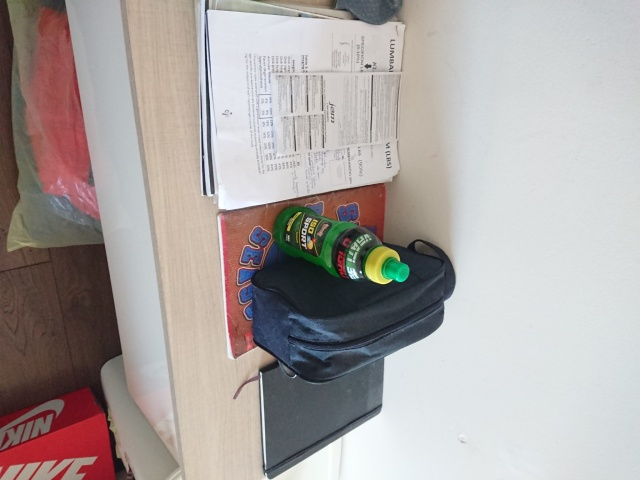Vindi Iso Sport Lemon-Grapefruit 500mL: (270, 203, 412, 286)
